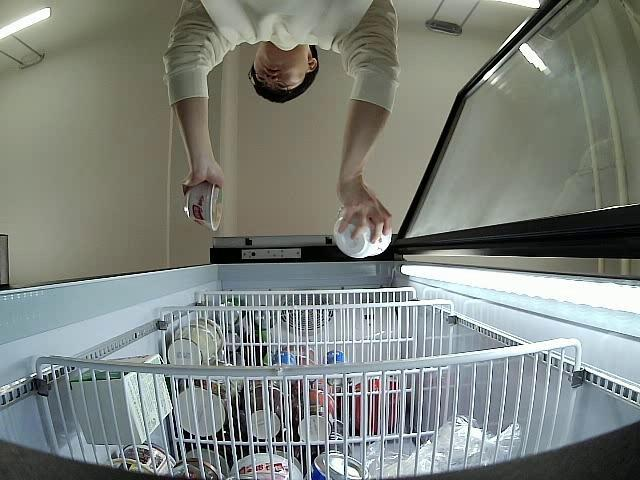09_yukGaeJang: (334, 208, 390, 260), (184, 180, 223, 231)
